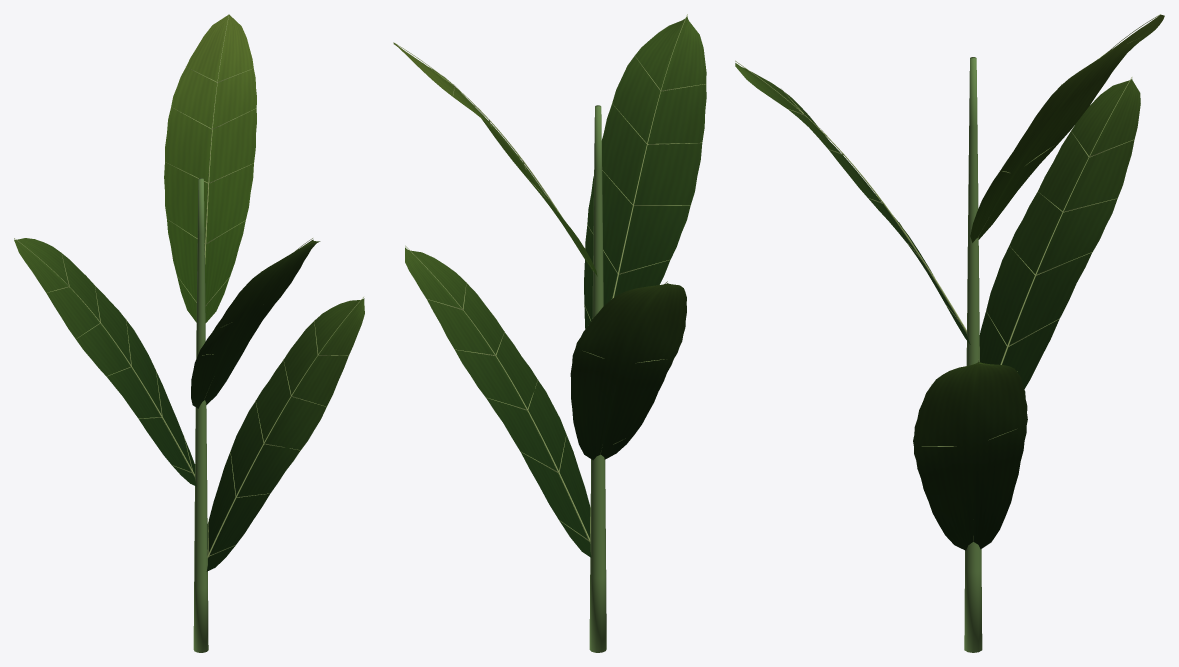
Rendered from tulip-06.glb.
3 renders of one model, left to right at view 1: azimuth 30°, elevation 25°; view 2: azimuth 150°, elevation 25°; view 3: azimuth 270°, elevation 25°, orthographic. The views are drawn at different scales.
Parts seen in each view (by area): view 1: tulip_stage_06_leaf_veins.010, tulip_stage_06_young_leaf.010, tulip_stage_06_stem_fibres.010, tulip_stage_06_raised_midveins.010; view 2: tulip_stage_06_leaf_veins.010, tulip_stage_06_stem_fibres.010, tulip_stage_06_raised_midveins.010, tulip_stage_06_young_leaf.010; view 3: tulip_stage_06_leaf_veins.010, tulip_stage_06_young_leaf.010, tulip_stage_06_stem_fibres.010, tulip_stage_06_raised_midveins.010.
Boxes of the visible parts, <box> form: tulip_stage_06_leaf_veins.010: <box>14,238,364,571</box>; tulip_stage_06_young_leaf.010: <box>164,15,256,322</box>; tulip_stage_06_stem_fibres.010: <box>193,178,208,652</box>; tulip_stage_06_raised_midveins.010: <box>14,14,363,557</box>; tulip_stage_06_leaf_veins.010: <box>405,16,706,557</box>; tulip_stage_06_stem_fibres.010: <box>589,105,606,652</box>; tulip_stage_06_raised_midveins.010: <box>393,14,705,543</box>; tulip_stage_06_young_leaf.010: <box>393,43,597,276</box>; tulip_stage_06_leaf_veins.010: <box>735,63,1140,550</box>; tulip_stage_06_young_leaf.010: <box>970,14,1164,242</box>; tulip_stage_06_stem_fibres.010: <box>964,57,982,652</box>; tulip_stage_06_raised_midveins.010: <box>735,14,1160,541</box>.
Size of the model in its own units: 0.1801 by 0.3281 by 0.1832.
Materials: 4 (2 with a texture image).
